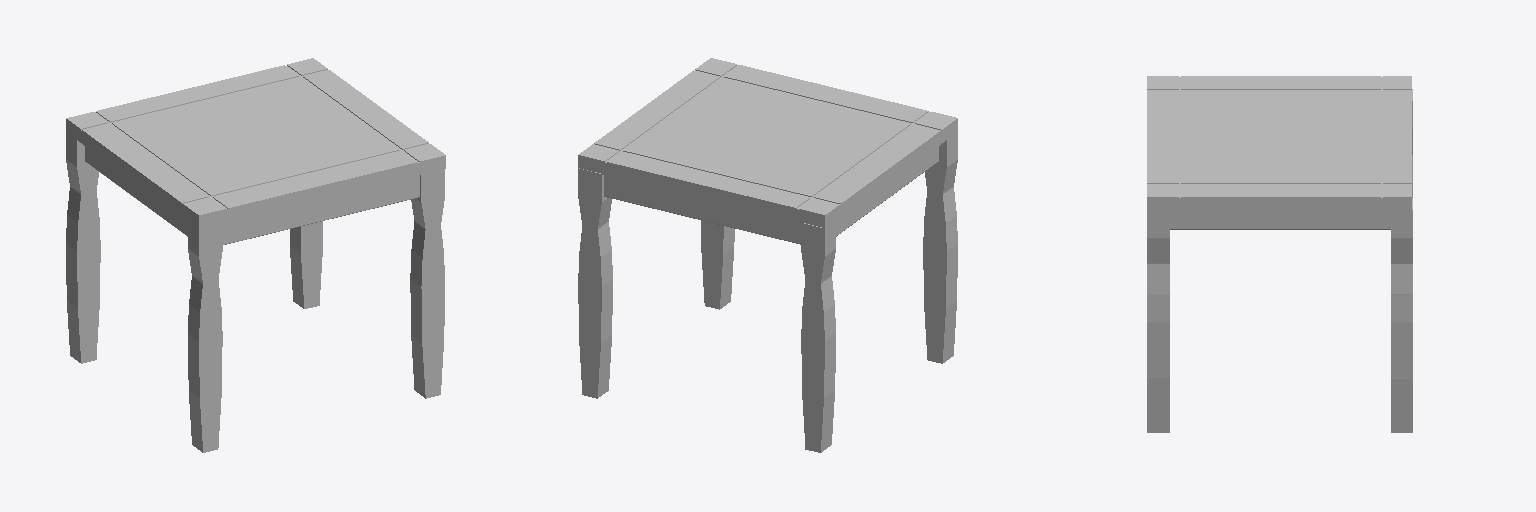
File: table3.obj
3 views of the same model, side by side, from view 1: azimuth 30°, elevation 25°; view 2: azimuth 150°, elevation 25°; view 3: azimuth 270°, elevation 25° (orthographic).
Size of the model in its own units: 52.25 by 48.21 by 48.74.